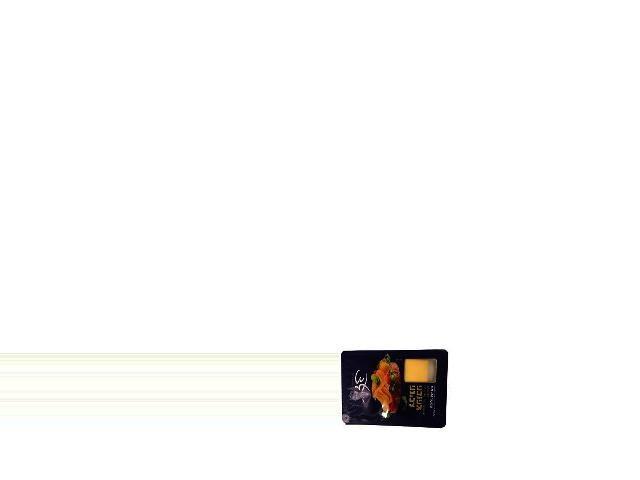cheese: (340, 349, 448, 430)
